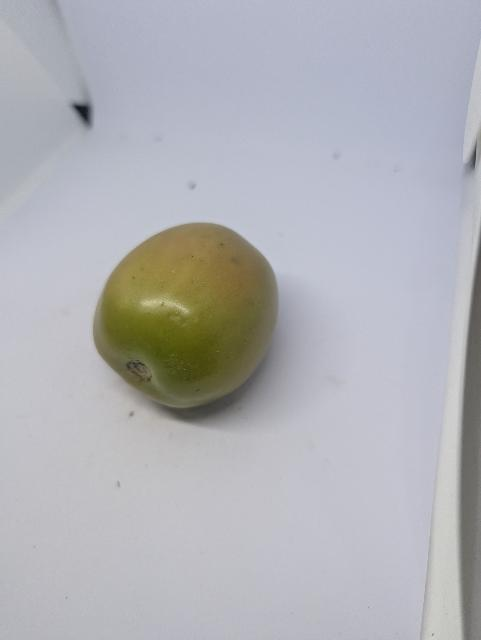breaker: (90, 217, 286, 418)
